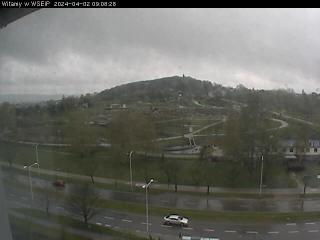car: (162, 211, 190, 227), (51, 177, 66, 189)
